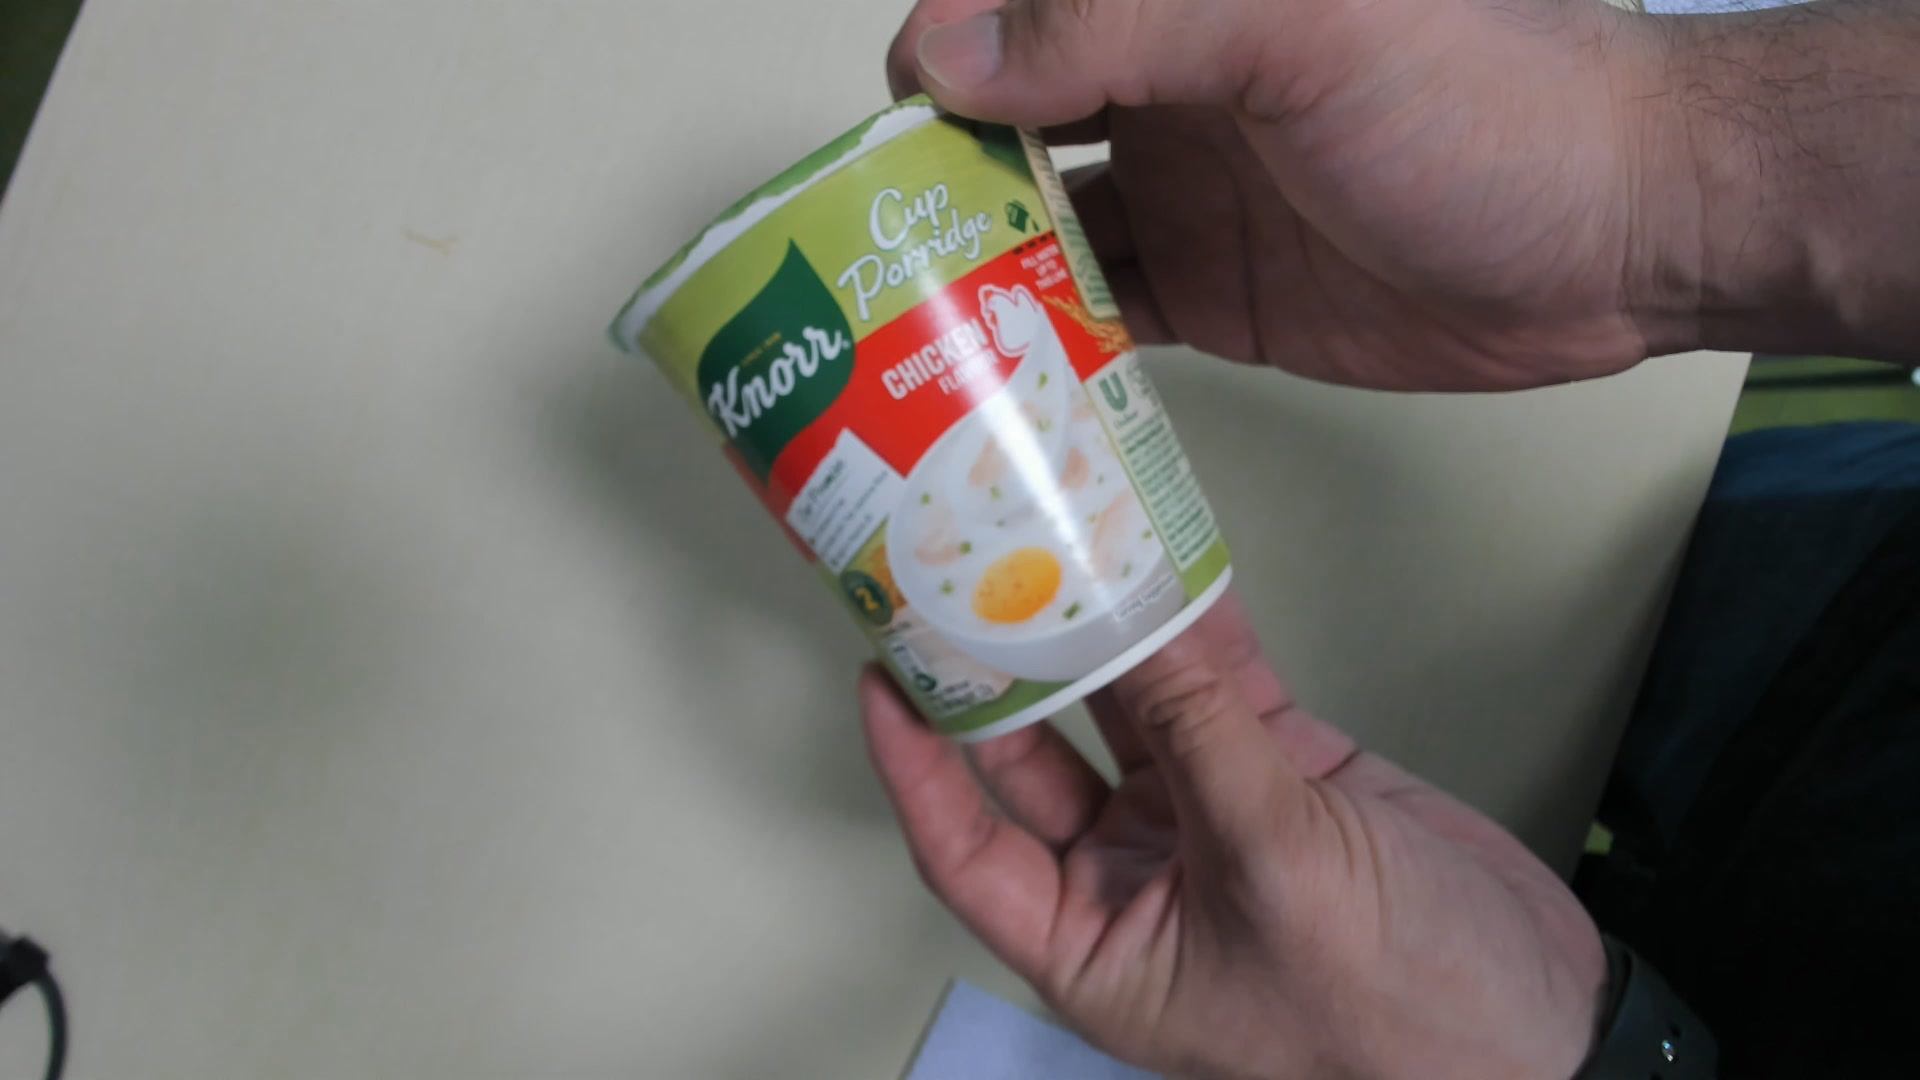InstantMeals_100-199g_Halal_NonHealthy: (591, 61, 1247, 748)
